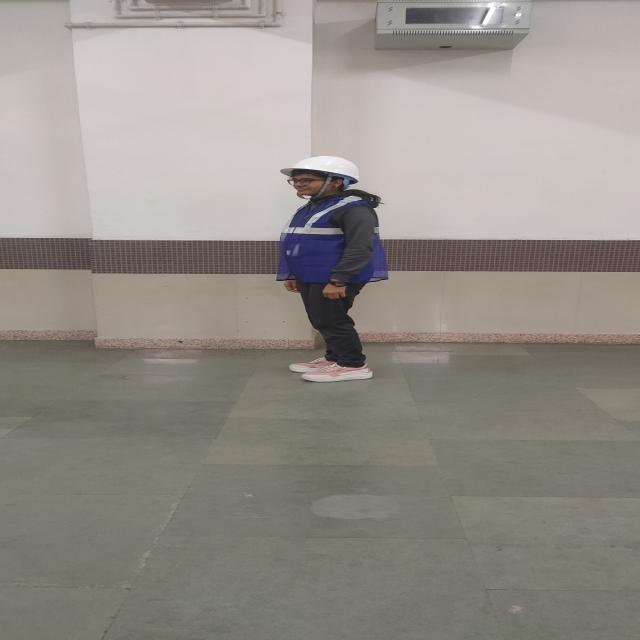safe: (274, 156, 391, 383)
